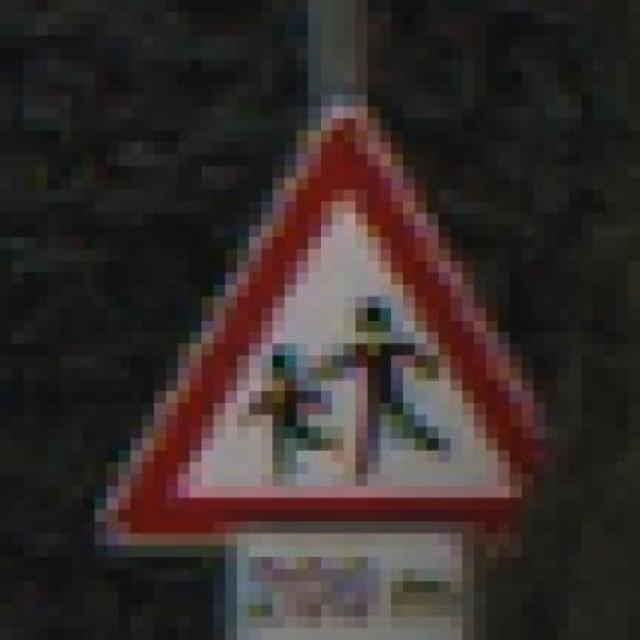Beware of children: (71, 71, 592, 569)
